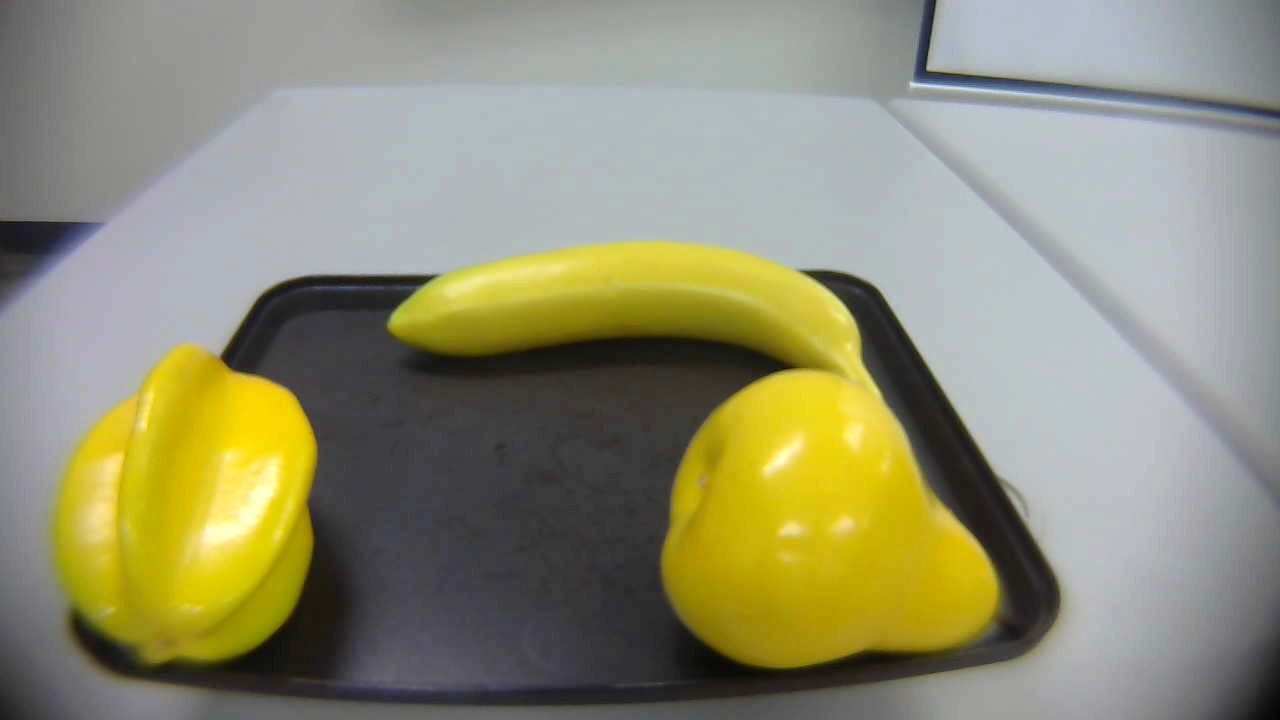banana: (366, 232, 888, 432)
star fruit: (51, 340, 314, 666)
yellow pear: (642, 370, 1038, 655)
